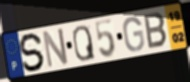5: (94, 17, 118, 60)
B: (142, 11, 169, 51)
G: (121, 15, 146, 53)
N: (41, 26, 70, 70)
Q: (72, 24, 97, 62)
S: (18, 31, 46, 72)
